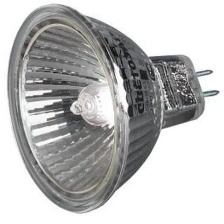light_bulb: (10, 3, 224, 215)
